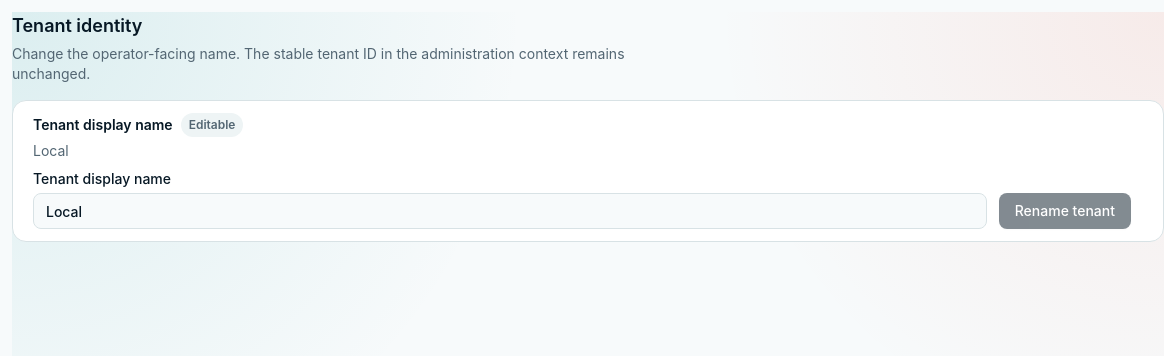
Test case: TenantSettings › surfaces API failures without reporting success
Replace the text in the field labelled "Tenant display name" with "Renamed tenant". click: (510, 211)
box: x1=33 y1=193 x2=987 y2=229
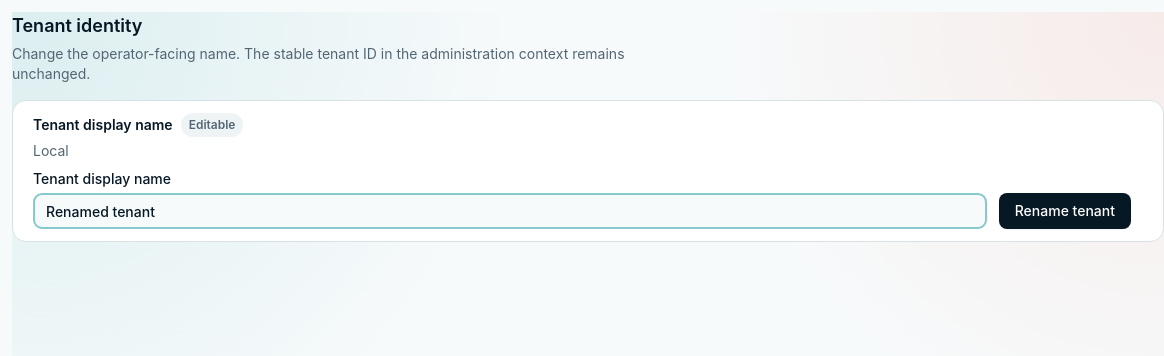
Click the button "Rename tenant". click: click(1065, 211)
box: x1=999 y1=193 x2=1131 y2=229
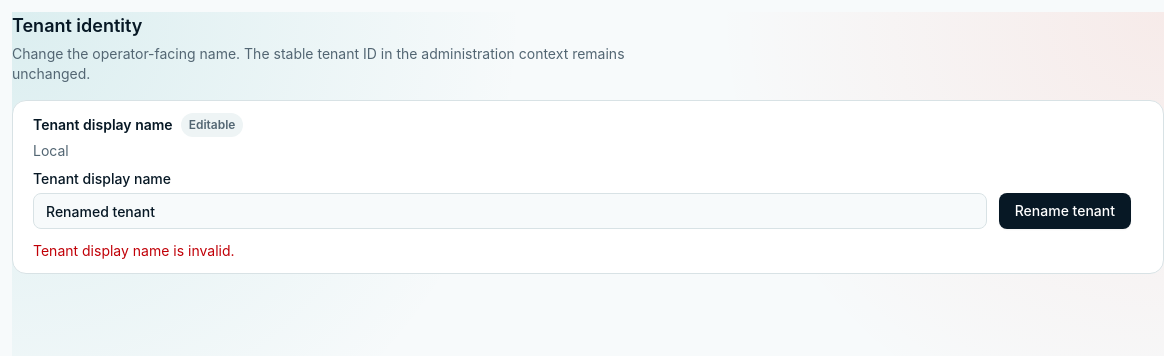
Expected: the message reads "Tenant display name is invalid.", x1=33 y1=242 x2=234 y2=259
